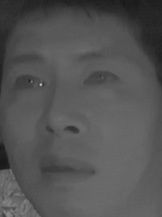eye: (80, 65, 120, 91), (8, 71, 49, 95)
mouth: (35, 151, 96, 189)
